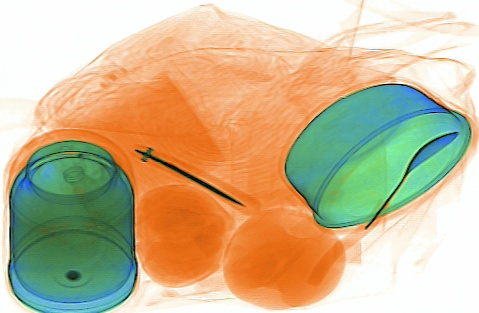knife: (125, 139, 260, 216)
